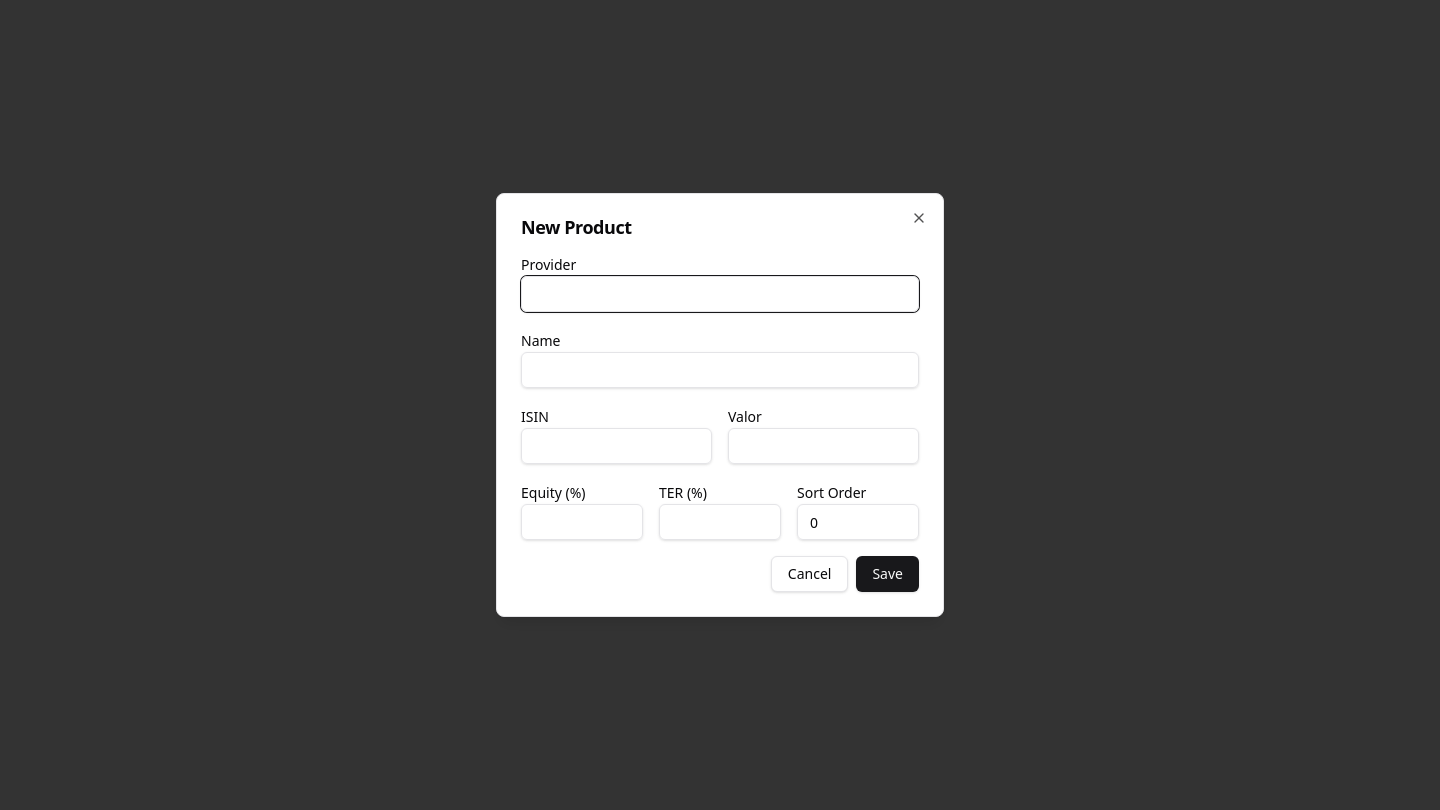
it: ProductFormDialog › blocks the submit on an invalid ISIN
The width and height of the screenshot is (1440, 810).
Type "frankly" into the field labelled "Provider".
click(720, 294); type("frankly")  # box [521,276,919,312]
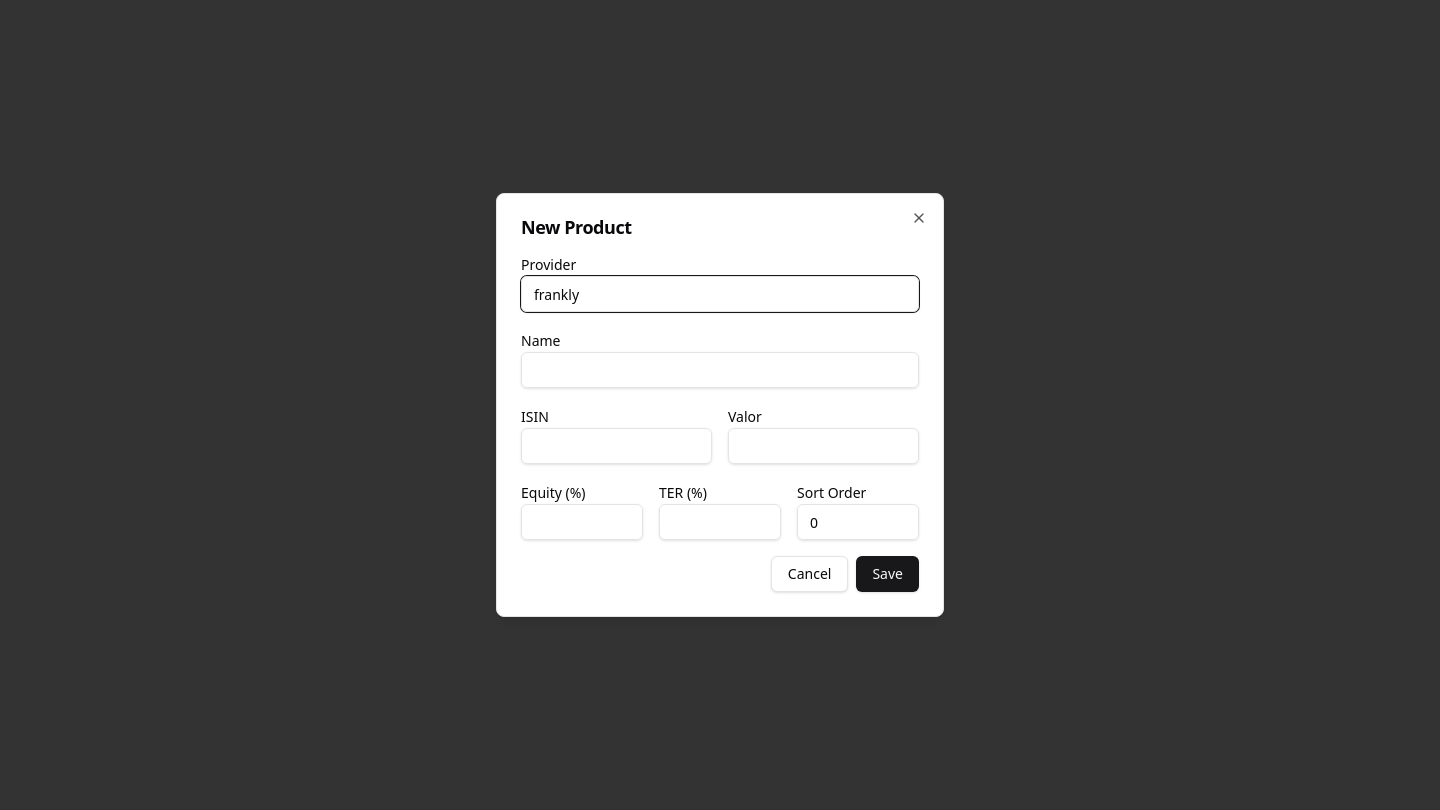
Type "Extreme 95" into the field labelled "Name".
click(720, 370); type("Extreme 95")  # box [521,352,919,388]
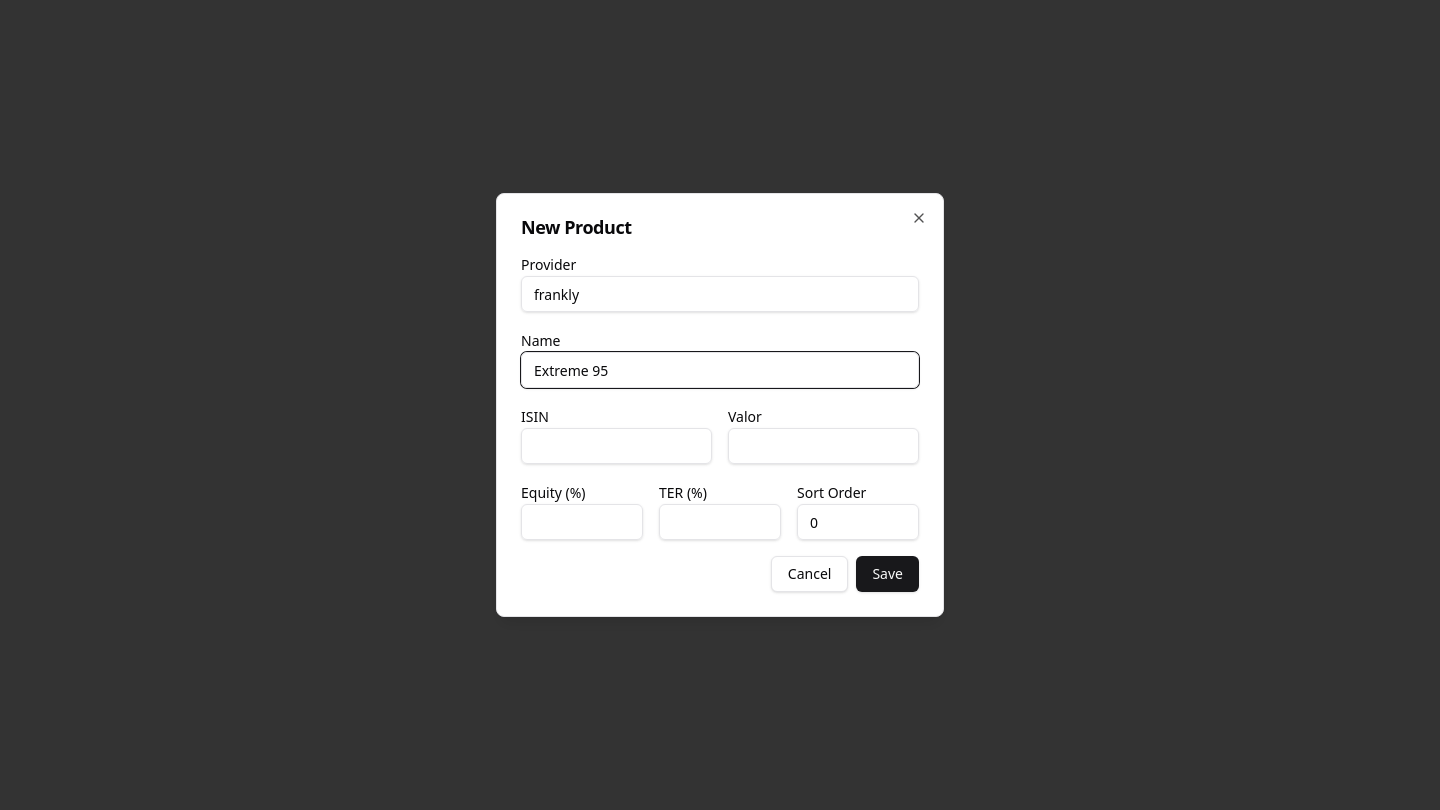
Type "INVALID" into the field labelled "ISIN".
click(616, 446); type("INVALID")  # box [521,428,712,464]
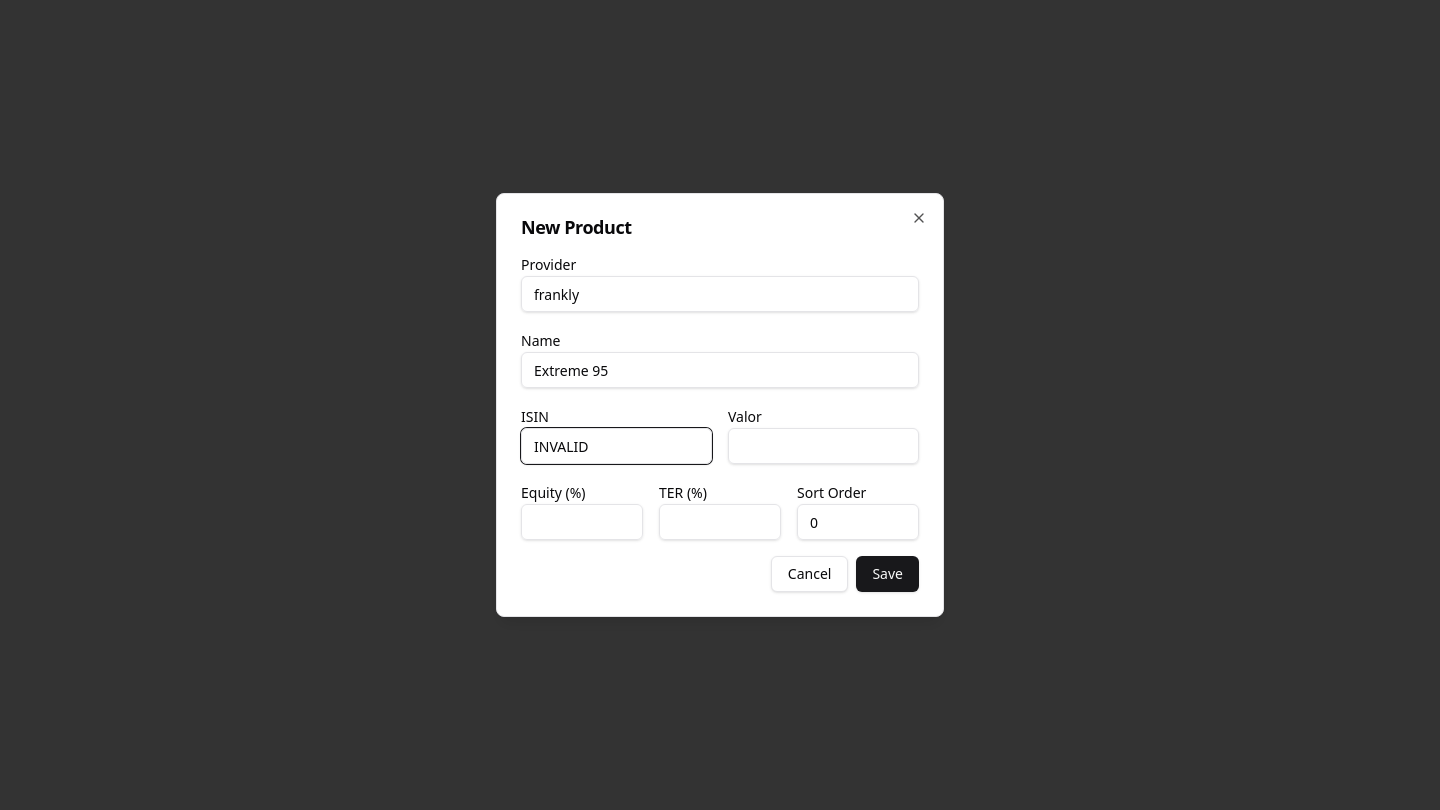
Type "95" into the number field labelled "Equity (%)".
click(582, 522); type("95")  # box [521,504,643,540]
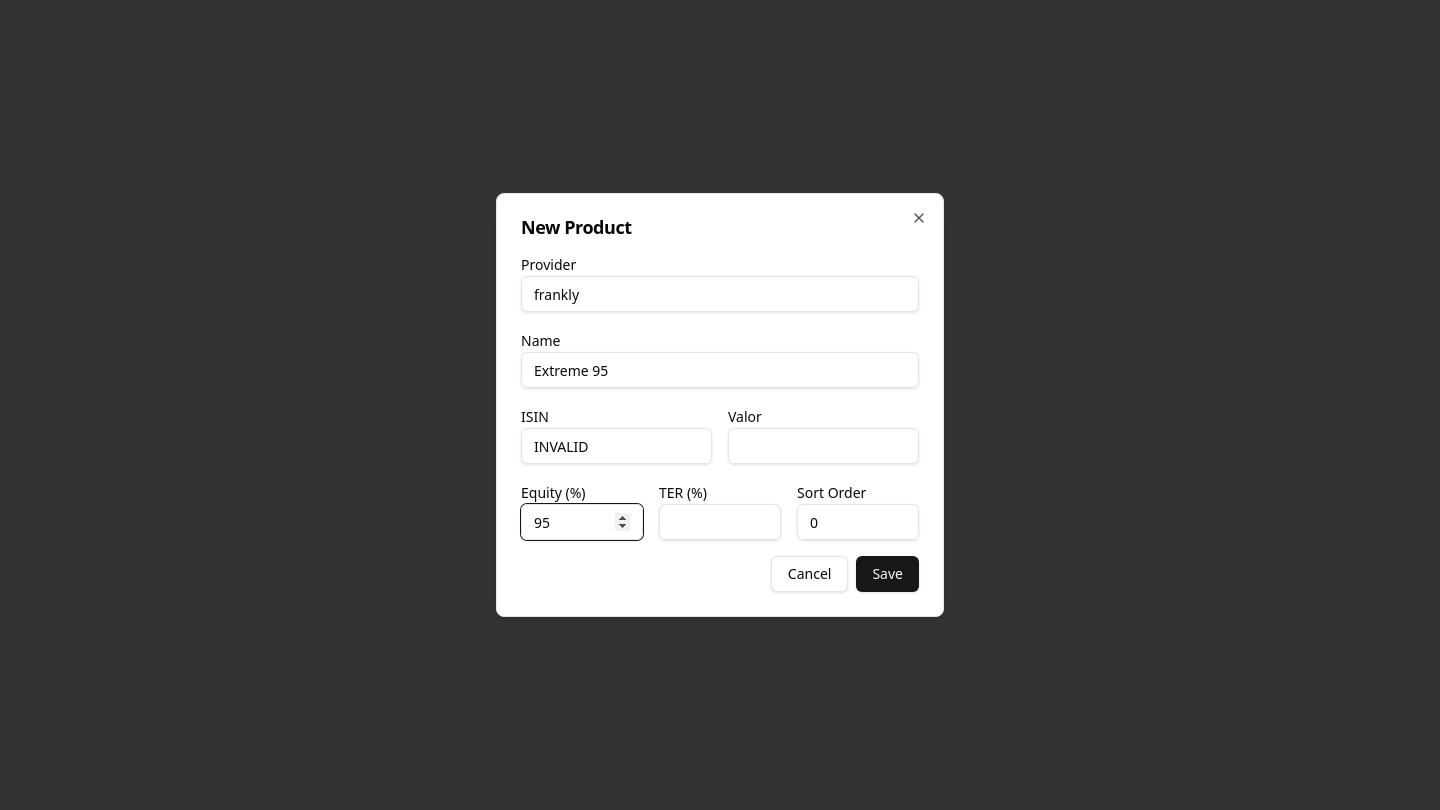
Type "0.44" into the number field labelled "TER (%)".
click(720, 522); type("0.44")  # box [659,504,781,540]
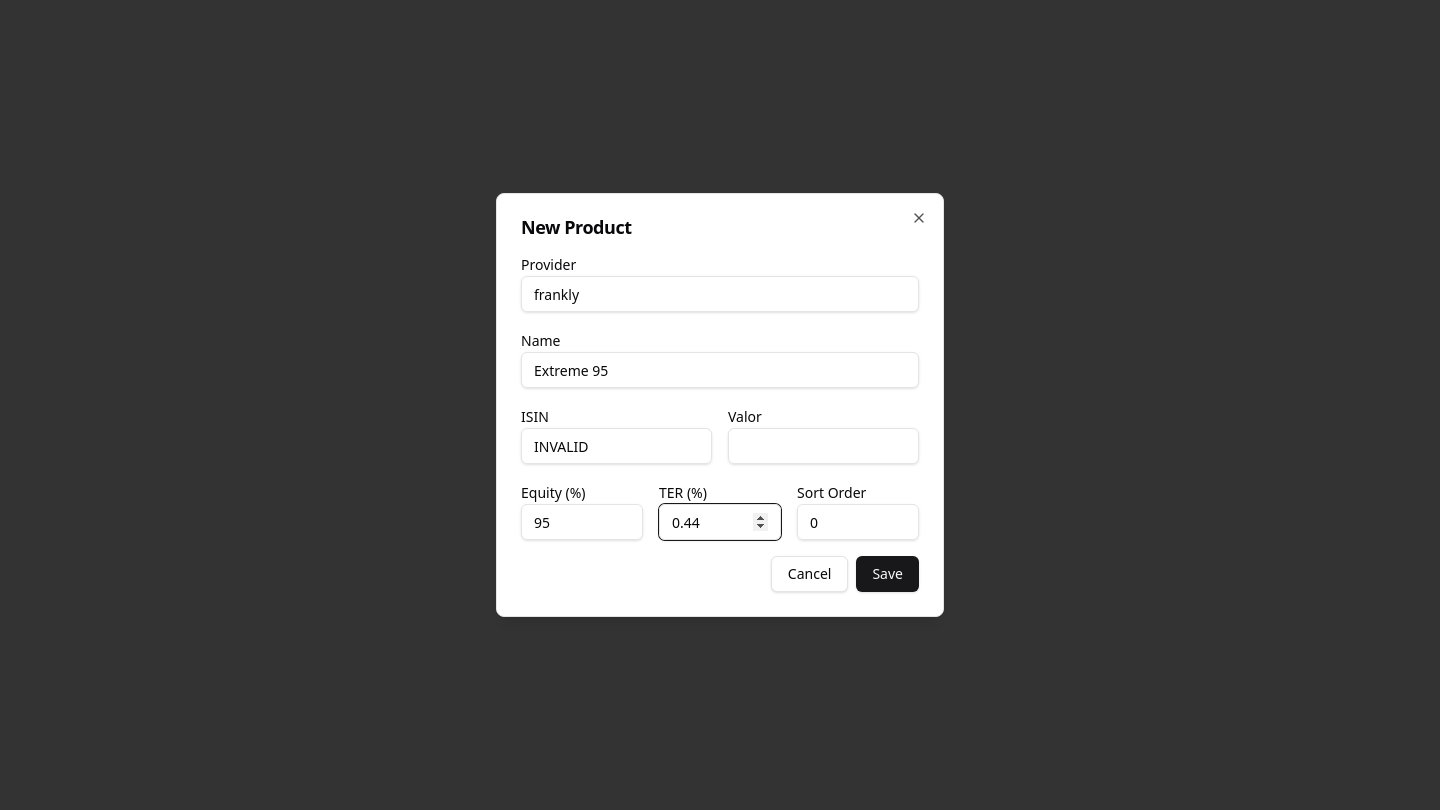
Click the button "Save".
click(888, 574)  # box [856,556,919,592]
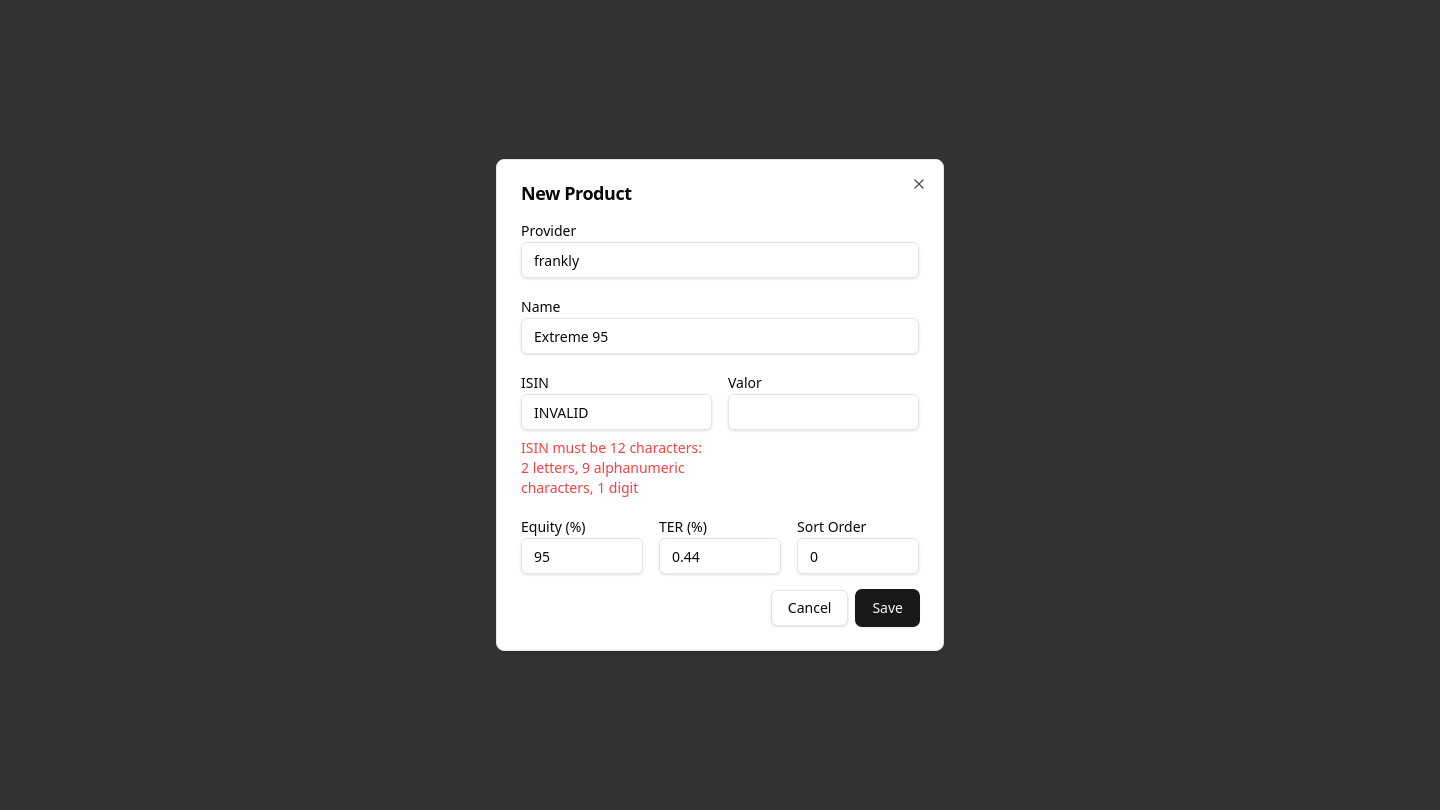
Check: the text "ISIN must be 12 characters: 2 letters, 9 alphanumeric characters, 1 digit" is shown, box [521,438,712,498]
